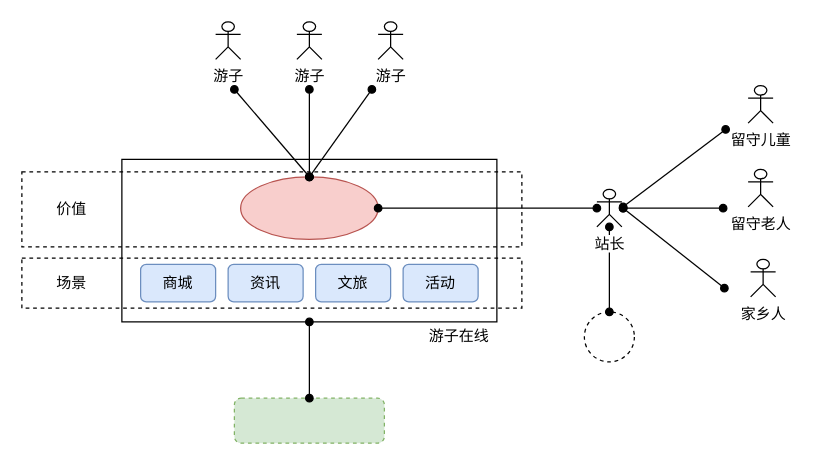
The diagram is 813 pixels wide and 465 high, and some of its shapes have lost their labels. Here are the shapes that lost their labels. From the top down, the centre of each, then its label:
the point at 308,207: 亲情、乡情
the point at 608,336: 家事 村事
the point at 308,420: 使命：乡村振兴
